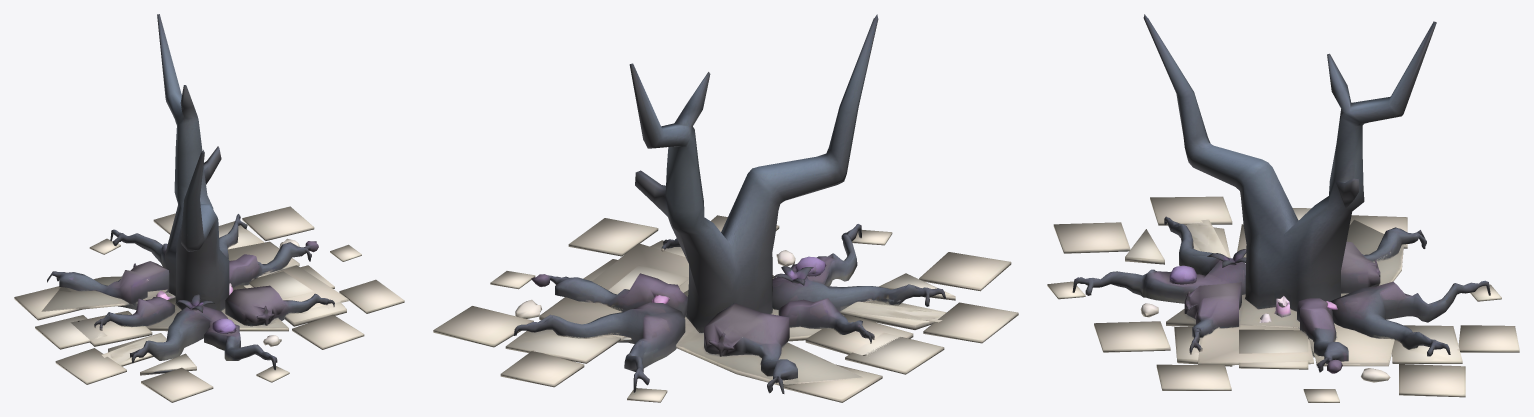
Rendered from SM_Environment_CrystalRuin_01.fbx.
3 renders of one model, left to right at view 1: azimuth 30°, elevation 25°; view 2: azimuth 150°, elevation 25°; view 3: azimuth 270°, elevation 25°, orthographic. The views are drawn at different scales.
Visible parts, largest first — view 1: SM_Environment_CrystalRuin_01; view 2: SM_Environment_CrystalRuin_01; view 3: SM_Environment_CrystalRuin_01.
Part boxes in pixels (bbox=[...]): SM_Environment_CrystalRuin_01: bbox=[14, 14, 404, 402]; SM_Environment_CrystalRuin_01: bbox=[433, 14, 1018, 402]; SM_Environment_CrystalRuin_01: bbox=[1047, 14, 1519, 402].
Size of the model in its own units: 0.998 by 0.6934 by 0.9863.
1 material, 1 textured.
